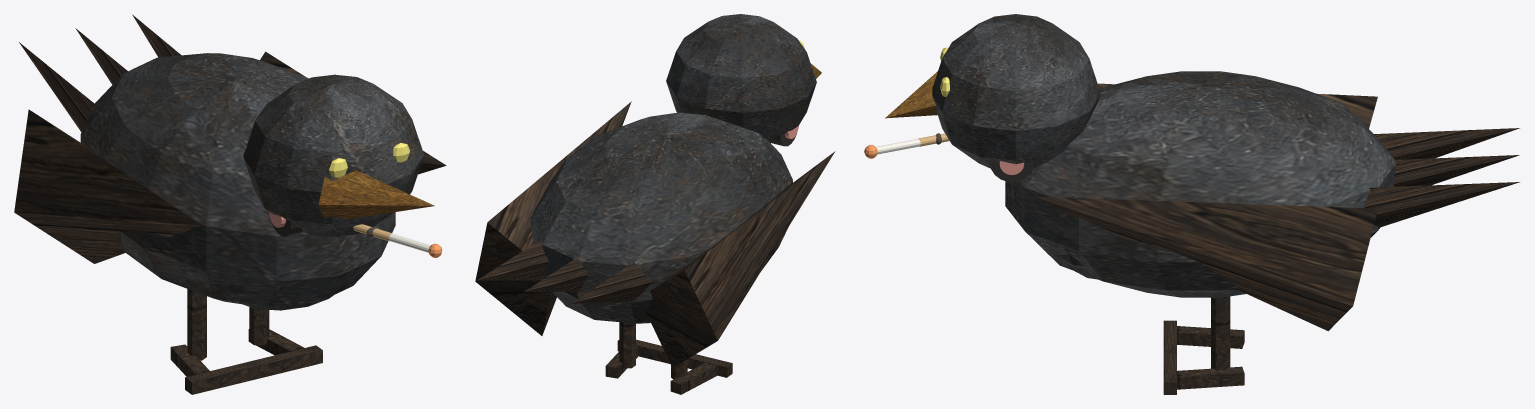
Rendered from field-crow.glb.
3 renders of one model, left to right at view 1: azimuth 30°, elevation 25°; view 2: azimuth 150°, elevation 25°; view 3: azimuth 270°, elevation 25°, orthographic. The views are drawn at different scales.
Parts seen in each view (by area): view 1: field-crow_merged_mesh; view 2: field-crow_merged_mesh; view 3: field-crow_merged_mesh.
Part boxes in pixels (<box>): field-crow_merged_mesh: <box>14,14,446,394</box>; field-crow_merged_mesh: <box>475,14,835,394</box>; field-crow_merged_mesh: <box>885,14,1519,394</box>.
Size of the model in its own units: 0.8451 by 0.9725 by 1.7.
11 materials, 4 textured.
